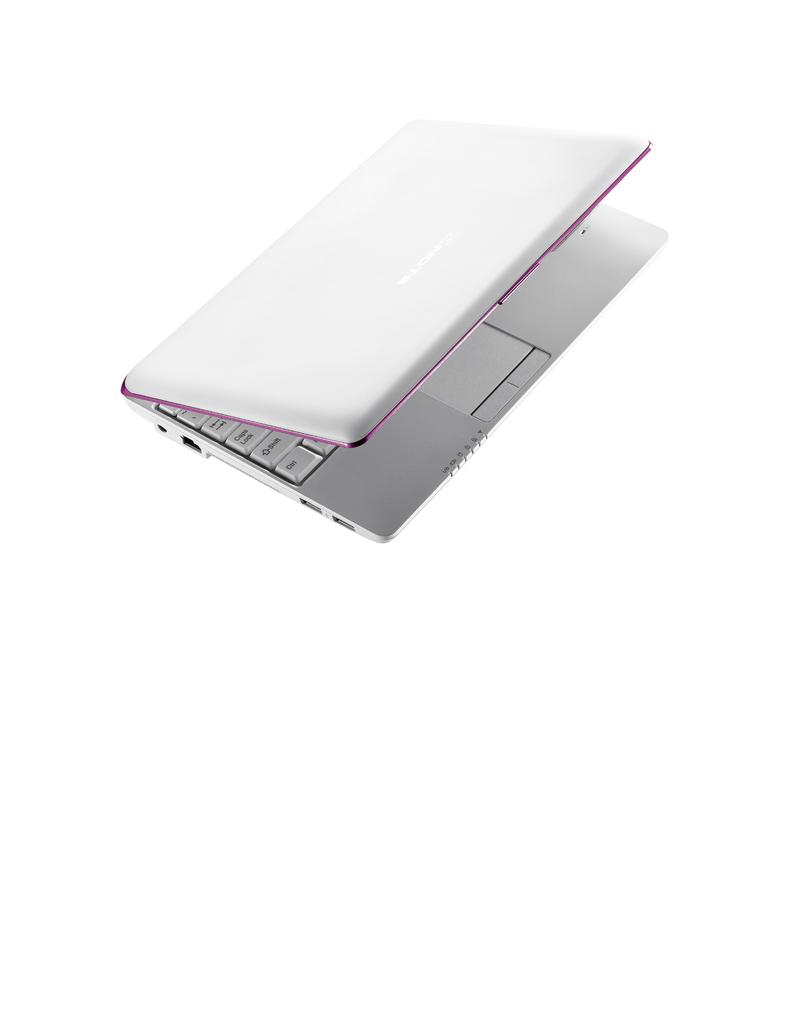Laptop: (116, 102, 680, 539)
